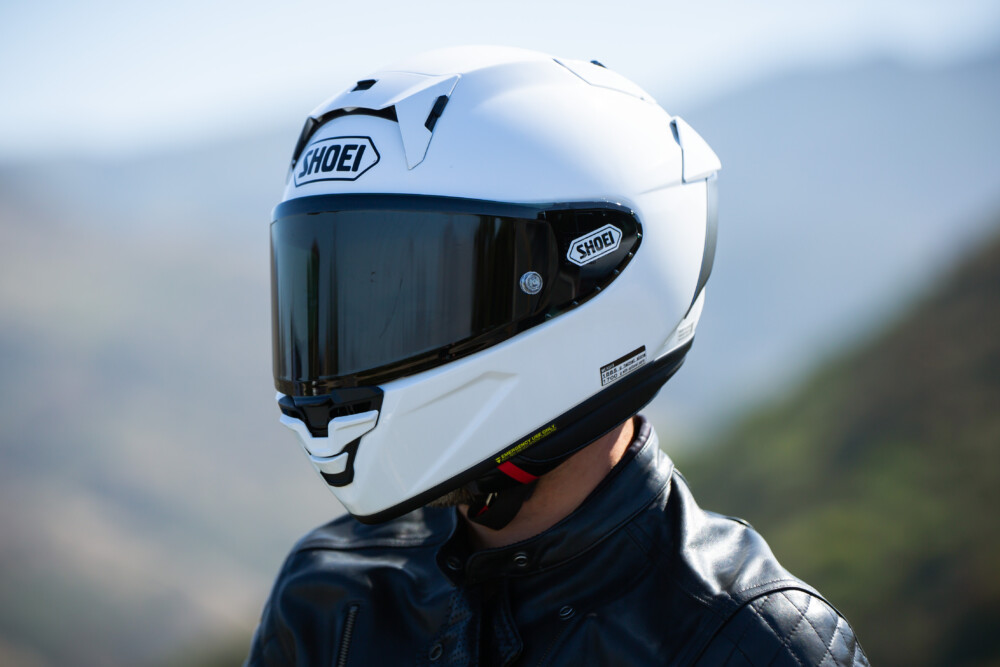helmets: (242, 35, 736, 556)
